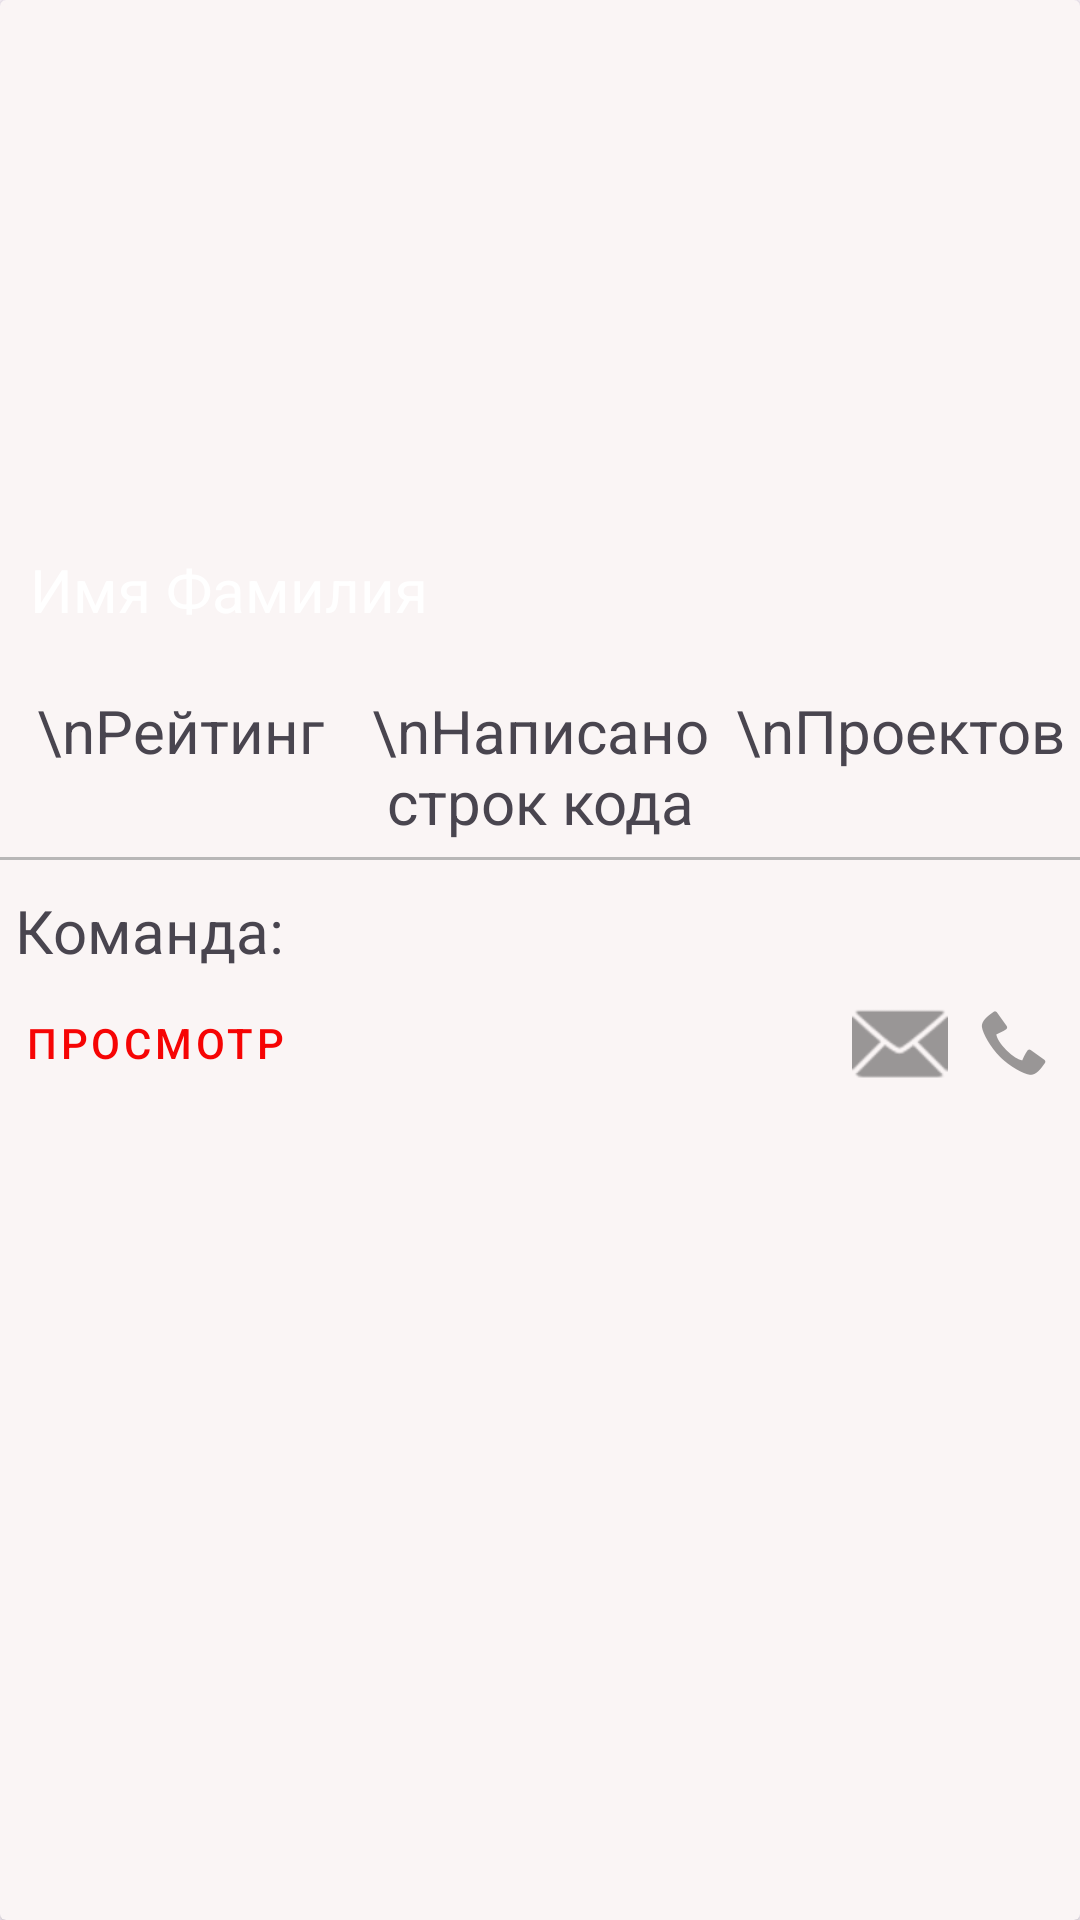

Icons on this 1080w x 1920h Android screen, each with the point to tap as (x,y):
mail: (900,1044)
telephone: (1014,1043)
